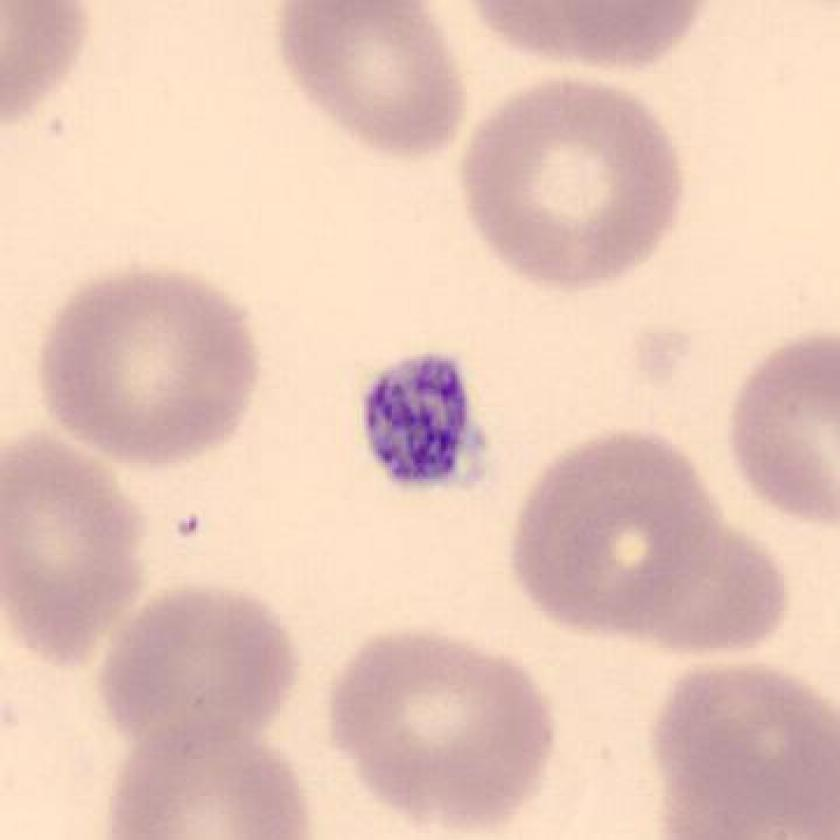platelets: (353, 337, 491, 506)
